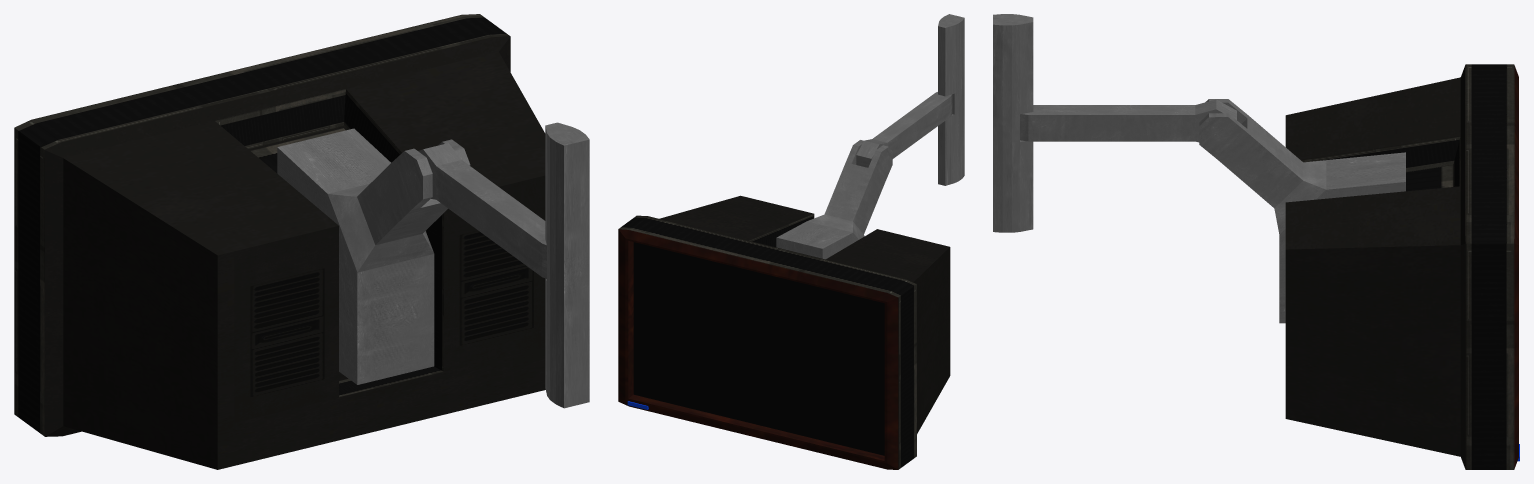
Rendered from HangingMonitor.fbx.
3 views of the same model, side by side, from view 1: azimuth 30°, elevation 25°; view 2: azimuth 150°, elevation 25°; view 3: azimuth 270°, elevation 25° (orthographic). The views are drawn at different scales.
Parts seen in each view (by area): view 1: Screen03, CubeMonitorArm03, CubeMonitorArm01, CubeMonitorArm02; view 2: Screen03, CubeMonitorArm03, CubeMonitorArm01, CubeMonitorArm02; view 3: Screen03, CubeMonitorArm03, CubeMonitorArm01, CubeMonitorArm02.
Boxes of the visible parts, bbox=[...] form: Screen03: bbox=[14, 14, 545, 469]; CubeMonitorArm03: bbox=[277, 128, 470, 384]; CubeMonitorArm01: bbox=[545, 122, 589, 408]; CubeMonitorArm02: bbox=[418, 143, 546, 278]; Screen03: bbox=[618, 195, 950, 469]; CubeMonitorArm03: bbox=[776, 140, 892, 259]; CubeMonitorArm01: bbox=[938, 14, 964, 185]; CubeMonitorArm02: bbox=[856, 92, 952, 167]; Screen03: bbox=[1285, 64, 1519, 469]; CubeMonitorArm03: bbox=[1199, 99, 1405, 323]; CubeMonitorArm01: bbox=[993, 14, 1033, 232]; CubeMonitorArm02: bbox=[1020, 99, 1236, 142].
Bounding box in the file's own units: 364 × 343 × 451.
